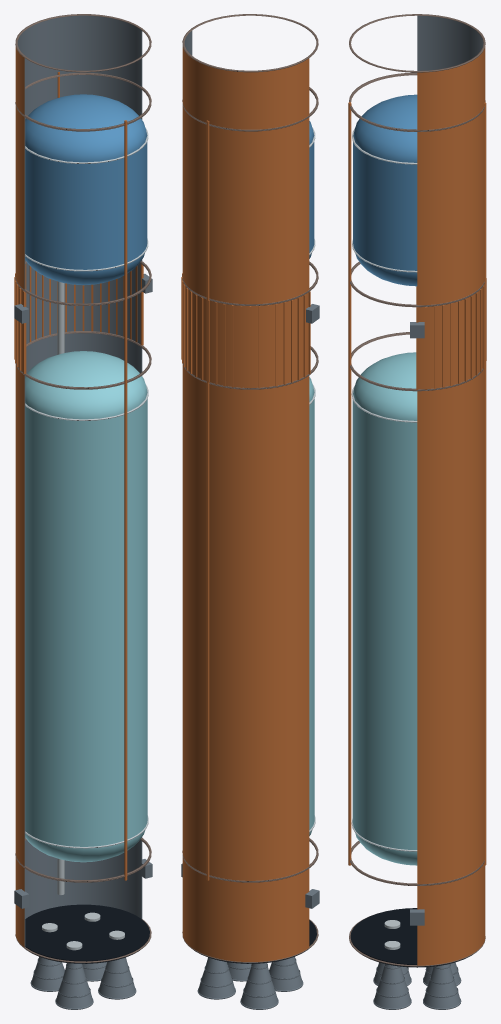
The model's file is sls_core_cutaway.glb.
The picture shows the model from 3 angles, left to right: view 1: azimuth 30°, elevation 25°; view 2: azimuth 150°, elevation 25°; view 3: azimuth 270°, elevation 25°; orthographic projection.
Visible parts, largest first — view 1: sls_core.cutaway.lh2.mesh_Cutaway_liquid_hydrogen, sls_core.cutaway.lox.mesh_Cutaway_liquid_oxygen, sls_core.forward_skirt.mesh_Machined_steel, sls_core.engine_section.mesh_Machined_steel, sls_core.mesh_Shadowed_interior, sls_core.intertank.mesh_Machined_steel, sls_core.lh2_skin.mesh_Spray-on_insulation, sls_core.lh2_skin.mesh_Machined_steel, sls_core.mesh_Spray-on_insulation, sls_core.intertank.mesh_Spray-on_insulation, sls_core.lox_skin.mesh_Machined_steel, sls_core.lox_skin.mesh_Spray-on_insulation (+15 smaller); view 2: sls_core.lh2_skin.mesh_Spray-on_insulation, sls_core.lox_skin.mesh_Spray-on_insulation, sls_core.intertank.mesh_Spray-on_insulation, sls_core.engine_section.mesh_Spray-on_insulation, sls_core.forward_skirt.mesh_Spray-on_insulation, sls_core.mesh_Spray-on_insulation, sls_core.cutaway.lh2.mesh_Cutaway_liquid_hydrogen, sls_core.rs25_03.bell.mesh_Machined_steel, sls_core.rs25_02.bell.mesh_Machined_steel, sls_core.forward_skirt.mesh_Heat-stained_alloy, sls_core.rs25_04.bell.mesh_Machined_steel, sls_core.cutaway.lox.mesh_Cutaway_liquid_oxygen (+6 smaller); view 3: sls_core.lh2_skin.mesh_Spray-on_insulation, sls_core.cutaway.lh2.mesh_Cutaway_liquid_hydrogen, sls_core.lox_skin.mesh_Spray-on_insulation, sls_core.cutaway.lox.mesh_Cutaway_liquid_oxygen, sls_core.intertank.mesh_Spray-on_insulation, sls_core.engine_section.mesh_Spray-on_insulation, sls_core.mesh_Spray-on_insulation, sls_core.forward_skirt.mesh_Spray-on_insulation, sls_core.forward_skirt.mesh_Machined_steel, sls_core.mesh_Shadowed_interior, sls_core.forward_skirt.mesh_Heat-stained_alloy, sls_core.rs25_01.bell.mesh_Machined_steel (+8 smaller).
Boxes of the visible parts, bbox=[...] form: sls_core.cutaway.lh2.mesh_Cutaway_liquid_hydrogen: bbox=[25, 351, 147, 862]; sls_core.cutaway.lox.mesh_Cutaway_liquid_oxygen: bbox=[25, 94, 147, 285]; sls_core.forward_skirt.mesh_Machined_steel: bbox=[17, 15, 142, 114]; sls_core.engine_section.mesh_Machined_steel: bbox=[24, 840, 142, 947]; sls_core.mesh_Shadowed_interior: bbox=[25, 904, 149, 963]; sls_core.intertank.mesh_Machined_steel: bbox=[26, 263, 140, 344]; sls_core.lh2_skin.mesh_Spray-on_insulation: bbox=[15, 364, 24, 865]; sls_core.lh2_skin.mesh_Machined_steel: bbox=[24, 333, 142, 866]; sls_core.mesh_Spray-on_insulation: bbox=[57, 72, 127, 880]; sls_core.intertank.mesh_Spray-on_insulation: bbox=[14, 263, 143, 373]; sls_core.lox_skin.mesh_Machined_steel: bbox=[24, 75, 142, 289]; sls_core.lox_skin.mesh_Spray-on_insulation: bbox=[15, 106, 24, 289]; sls_core.lh2_skin.mesh_Spray-on_insulation: bbox=[182, 364, 309, 880]; sls_core.lox_skin.mesh_Spray-on_insulation: bbox=[182, 106, 309, 304]; sls_core.intertank.mesh_Spray-on_insulation: bbox=[181, 273, 310, 388]; sls_core.engine_section.mesh_Spray-on_insulation: bbox=[182, 857, 309, 961]; sls_core.forward_skirt.mesh_Spray-on_insulation: bbox=[182, 47, 309, 129]; sls_core.mesh_Spray-on_insulation: bbox=[206, 120, 209, 880]; sls_core.cutaway.lh2.mesh_Cutaway_liquid_hydrogen: bbox=[309, 377, 314, 835]; sls_core.rs25_03.bell.mesh_Machined_steel: bbox=[240, 963, 278, 1009]; sls_core.rs25_02.bell.mesh_Machined_steel: bbox=[197, 957, 235, 999]; sls_core.forward_skirt.mesh_Heat-stained_alloy: bbox=[182, 14, 318, 130]; sls_core.rs25_04.bell.mesh_Machined_steel: bbox=[269, 957, 303, 991]; sls_core.cutaway.lox.mesh_Cutaway_liquid_oxygen: bbox=[309, 121, 314, 258]; sls_core.lh2_skin.mesh_Spray-on_insulation: bbox=[417, 368, 484, 884]; sls_core.cutaway.lh2.mesh_Cutaway_liquid_hydrogen: bbox=[352, 352, 417, 865]; sls_core.lox_skin.mesh_Spray-on_insulation: bbox=[417, 109, 484, 305]; sls_core.cutaway.lox.mesh_Cutaway_liquid_oxygen: bbox=[353, 94, 417, 286]; sls_core.intertank.mesh_Spray-on_insulation: bbox=[416, 278, 486, 389]; sls_core.engine_section.mesh_Spray-on_insulation: bbox=[417, 863, 485, 965]; sls_core.mesh_Spray-on_insulation: bbox=[348, 102, 486, 865]; sls_core.forward_skirt.mesh_Spray-on_insulation: bbox=[417, 47, 485, 130]; sls_core.forward_skirt.mesh_Machined_steel: bbox=[417, 15, 483, 70]; sls_core.mesh_Shadowed_interior: bbox=[350, 908, 476, 967]; sls_core.forward_skirt.mesh_Heat-stained_alloy: bbox=[349, 14, 485, 131]; sls_core.rs25_01.bell.mesh_Machined_steel: bbox=[373, 964, 411, 1009].
Size of the model in its own units: 9.35 by 64.6 by 8.54.
